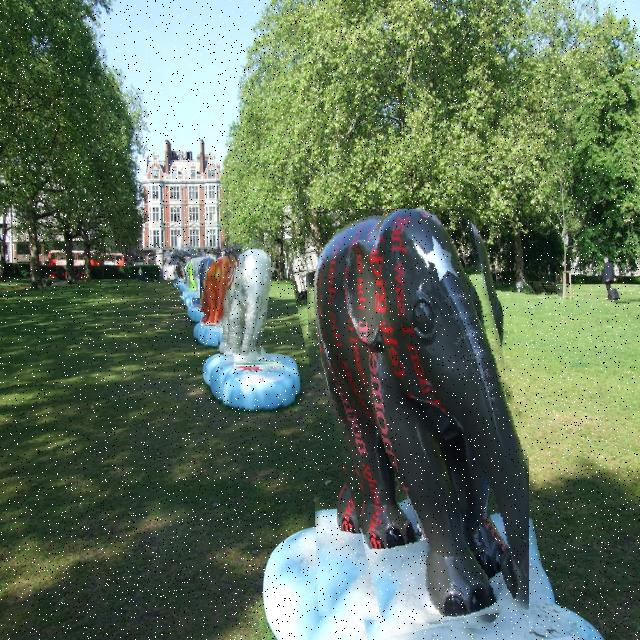elephant: (303, 209, 529, 634), (220, 244, 274, 356), (201, 255, 229, 326), (192, 257, 215, 312), (173, 252, 191, 297), (164, 252, 184, 284), (184, 260, 200, 298)
